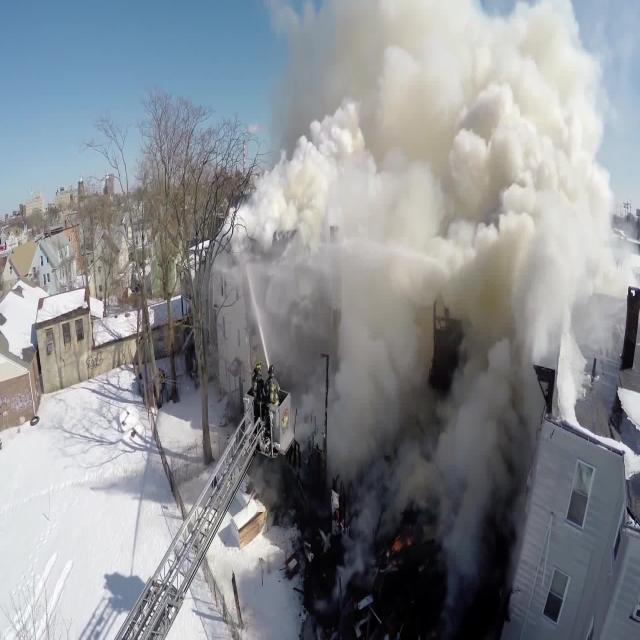Smoke: (212, 0, 640, 313)
